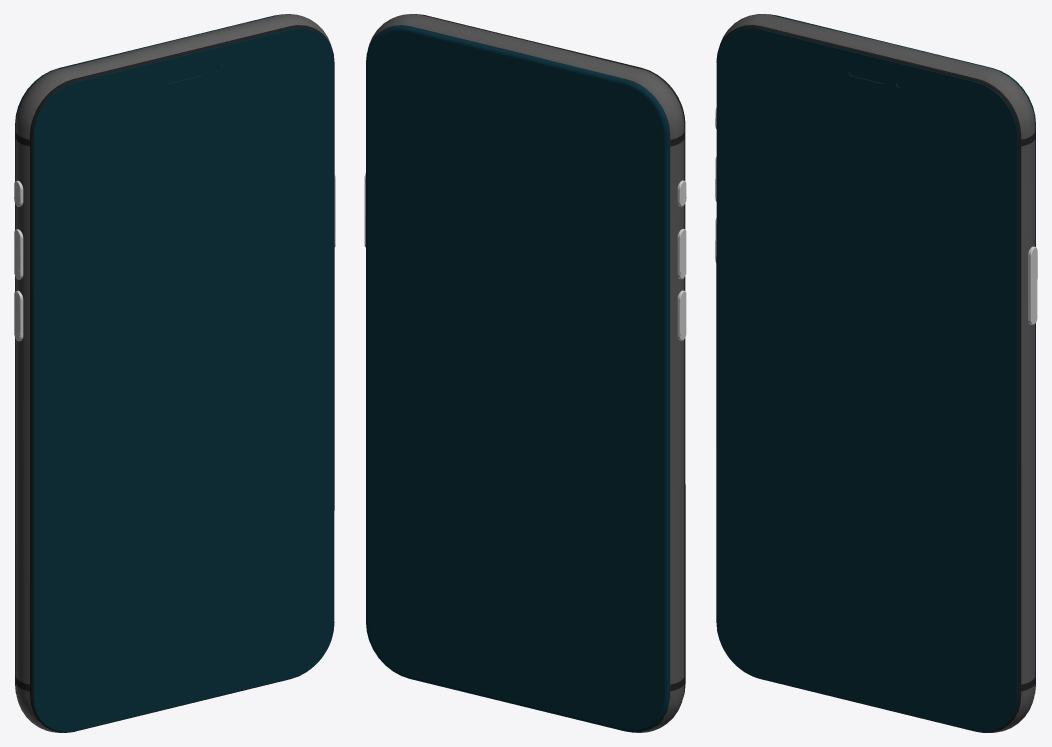
The model's file is iPhone 11 Pro.fbx.
3 views of the same model, side by side, from view 1: azimuth 30°, elevation 25°; view 2: azimuth 150°, elevation 25°; view 3: azimuth 330°, elevation 25° (orthographic).
Parts seen in each view (by area): view 1: object.012, object.001, object.006, object.007; view 2: object.012, object.001, object.006, object.007; view 3: object.012, object.001, object.006, object.007.
Boxes of the visible parts, x1,y1,x2,y2 form: object.012: (15,14,334,732); object.001: (15,14,331,732); object.006: (30,25,334,732); object.007: (14,174,335,340); object.012: (366,25,680,732); object.001: (368,14,684,732); object.006: (407,14,685,696); object.007: (364,173,686,340); object.012: (716,14,1035,732); object.001: (719,14,1035,732); object.006: (716,25,1021,732); object.007: (715,108,1037,324).
Size of the model in its own units: 79.14 by 158 by 8.21.
